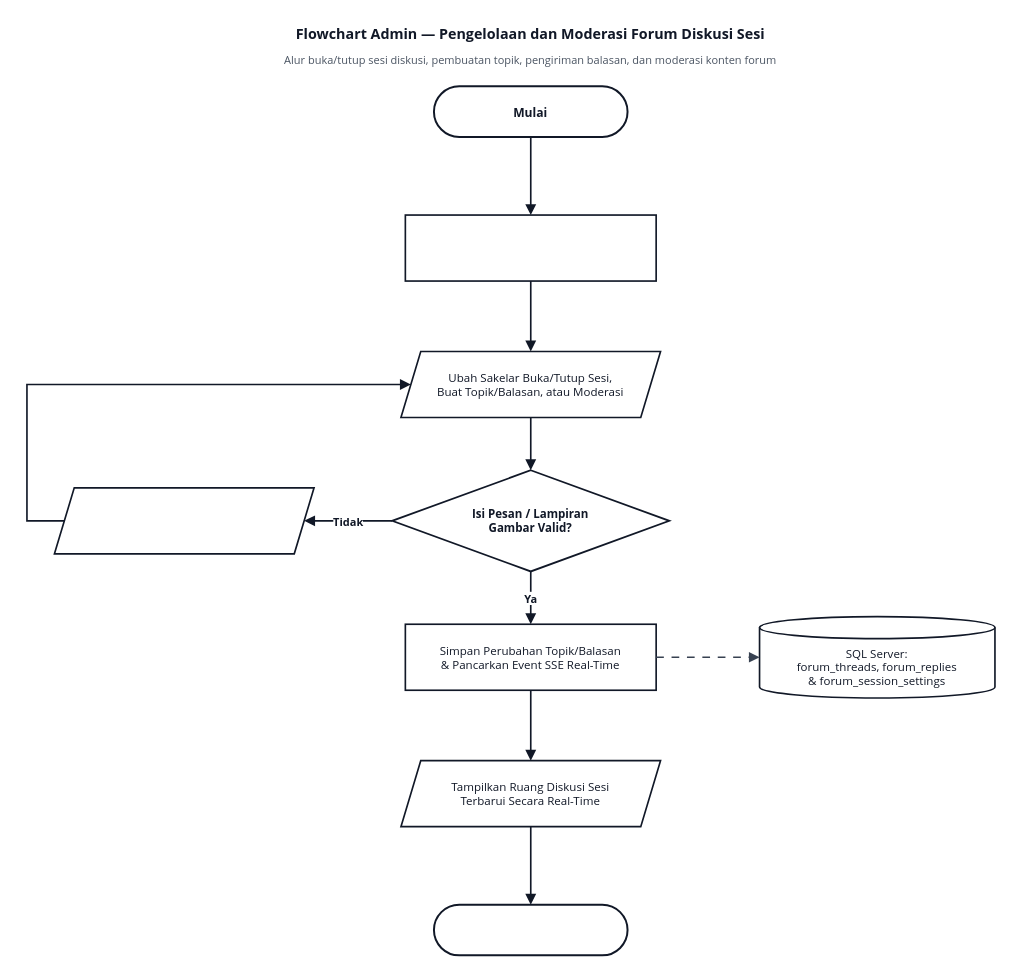
This 1015x975 diagram has some shape labels left out. The shapes that lost their labels are listed below. From the top down, each one's centre as x and y in pixels, then its label:
At point (530, 247): "Buka Halaman Forum Diskusi & Pilih Course serta Sesi".
At point (183, 520): "Tampilkan Peringatan Validasi Konten Forum Diskusi".
At point (530, 929): "Selesai".
